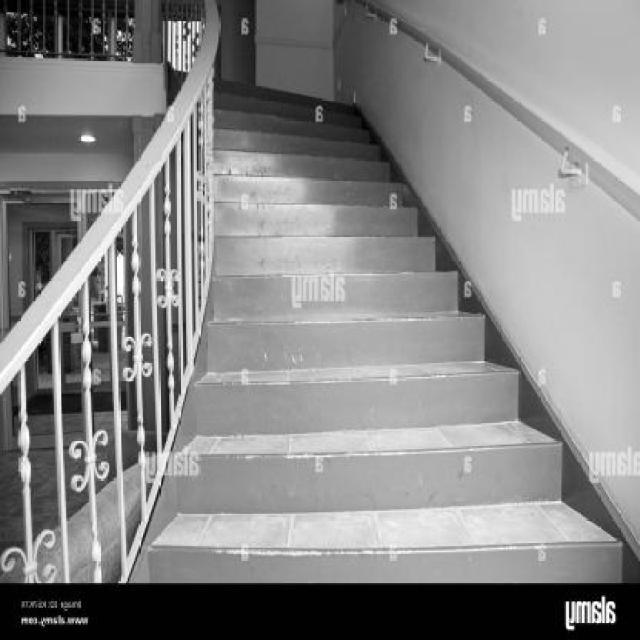stair: (23, 1, 632, 582)
